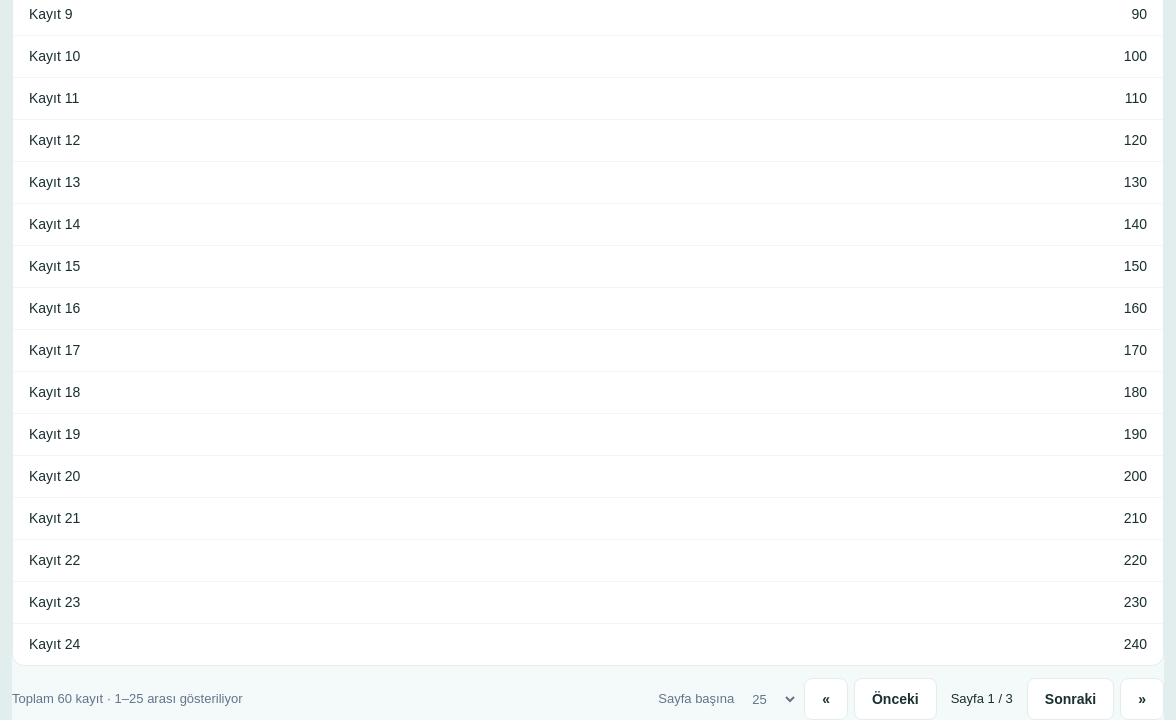
it: DataTable — istemci kipi › sonraki sayfaya geçer ve aralığı günceller
The width and height of the screenshot is (1176, 720).
(page scrolled)
Click the button "Sonraki": {"x": 1070, "y": 699} [1027, 678, 1114, 719]
(page scrolled)
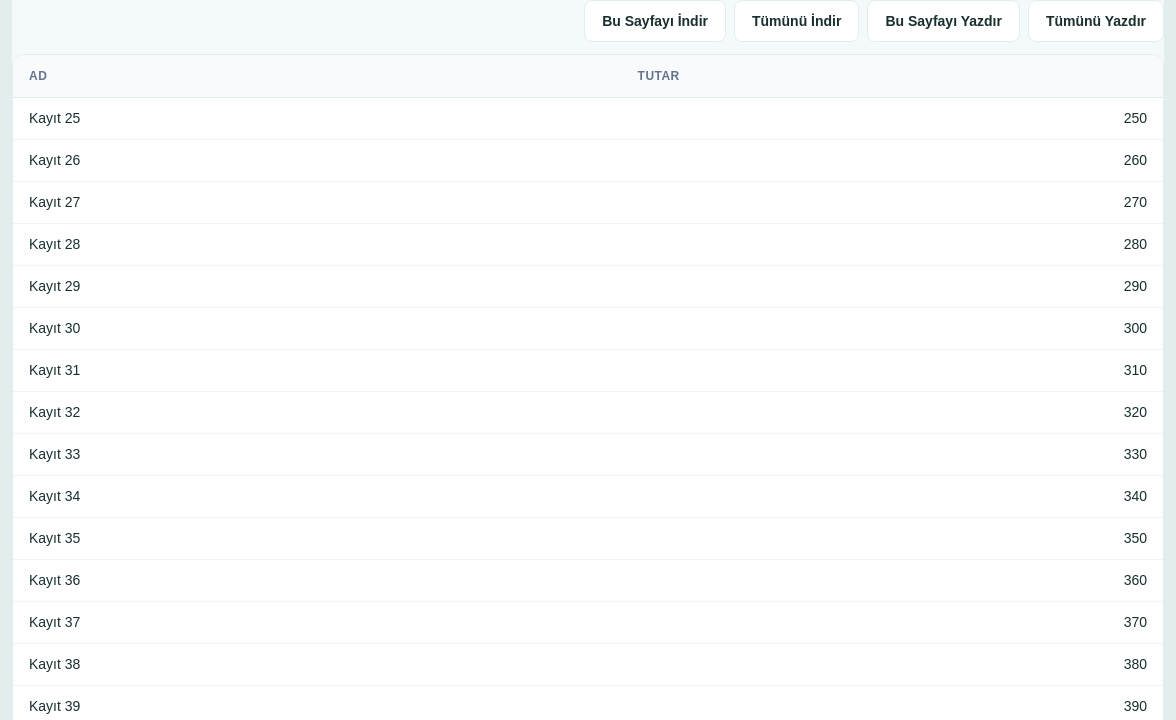
Expected: the text "Kayıt 25" is shown, [13, 98, 622, 140]
